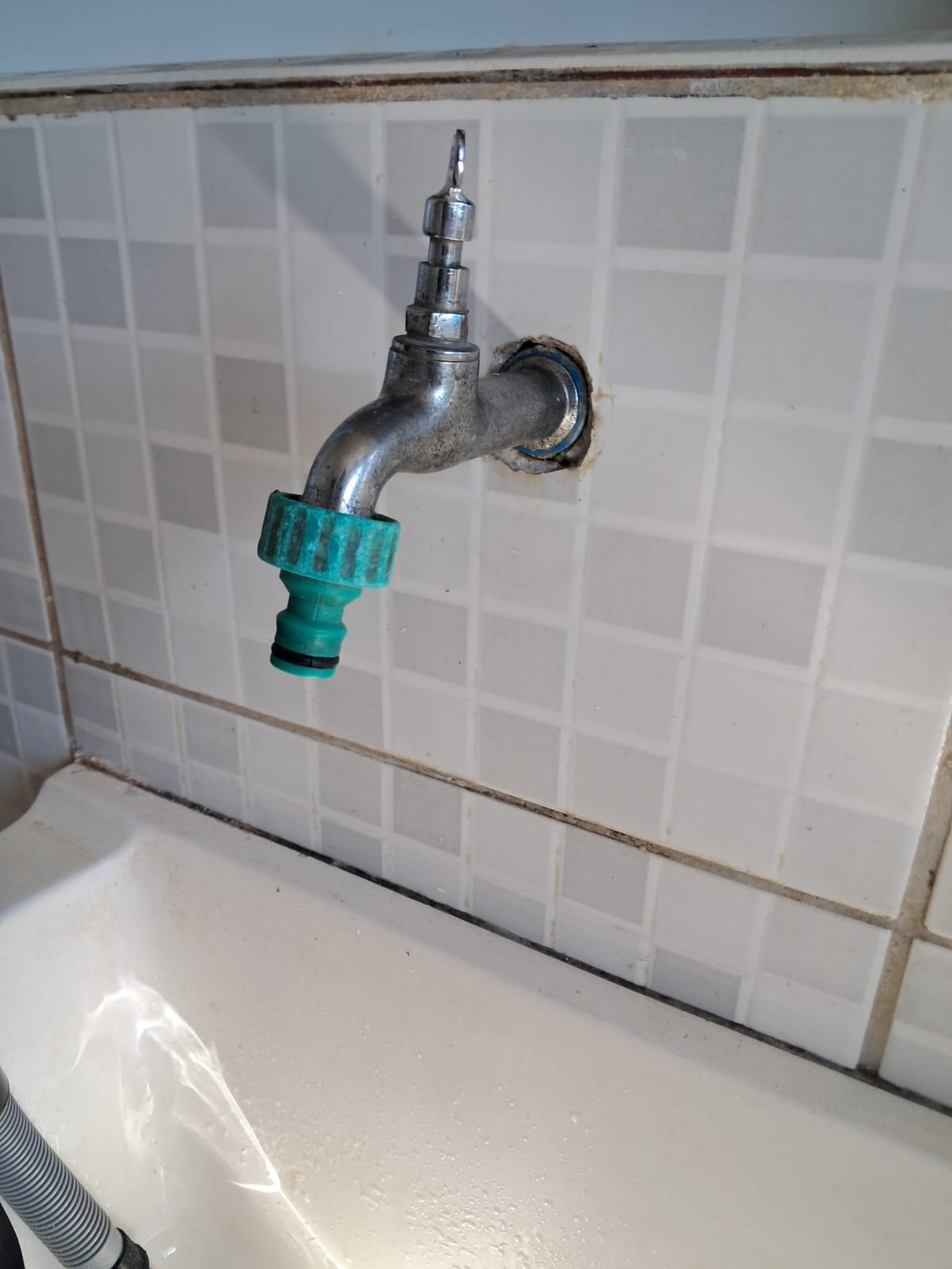torneira_fechada: (215, 102, 627, 720)
